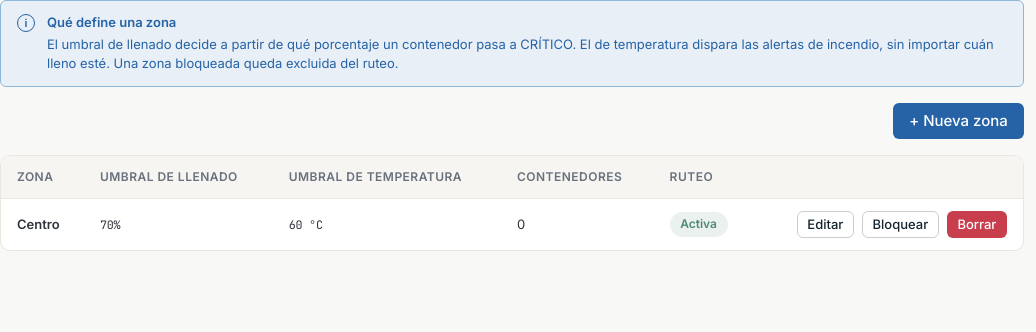
Test: CU-02 zonas y umbrales › bloquear una zona la saca del ruteo
Check: the text "Centro" is shown, box [17,216,60,232]
Click the button "Bloquear" at (900, 224), box [862,211,939,238]
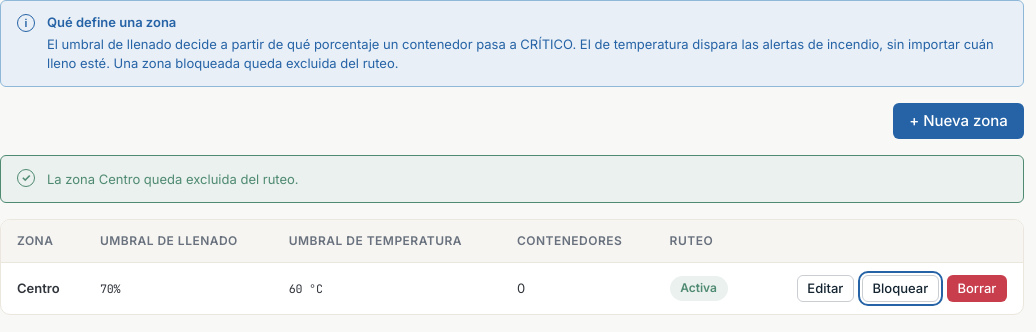
Check: the text "La zona Centro queda excluida del ruteo." is shown, box [47,170,299,190]
